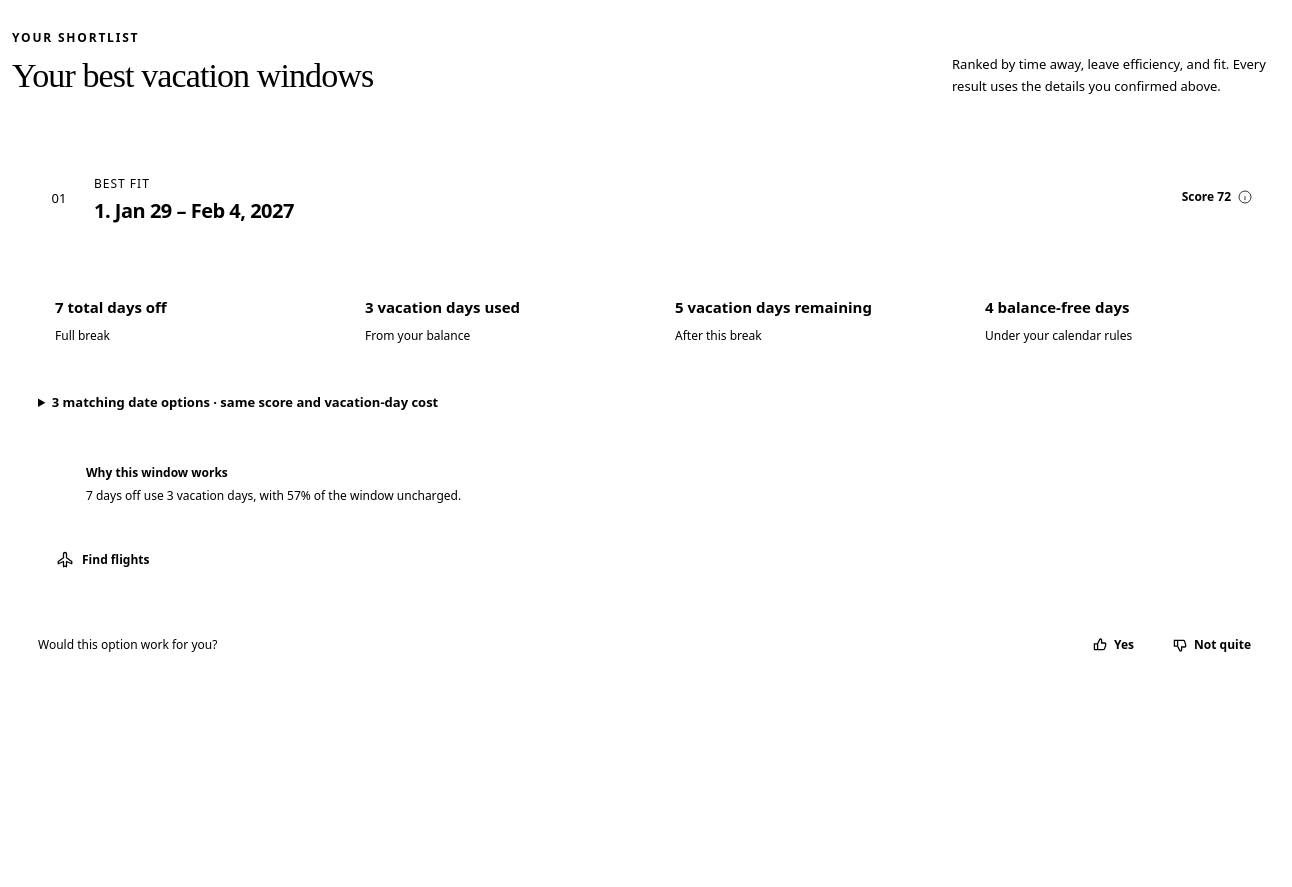
Test: reveals equivalent dates and the weighted score without changing feedback rank
Step 1. Click the heading "3 matching date options · same score and vacation-day cost" → (245, 402), box [52,393,438,411]
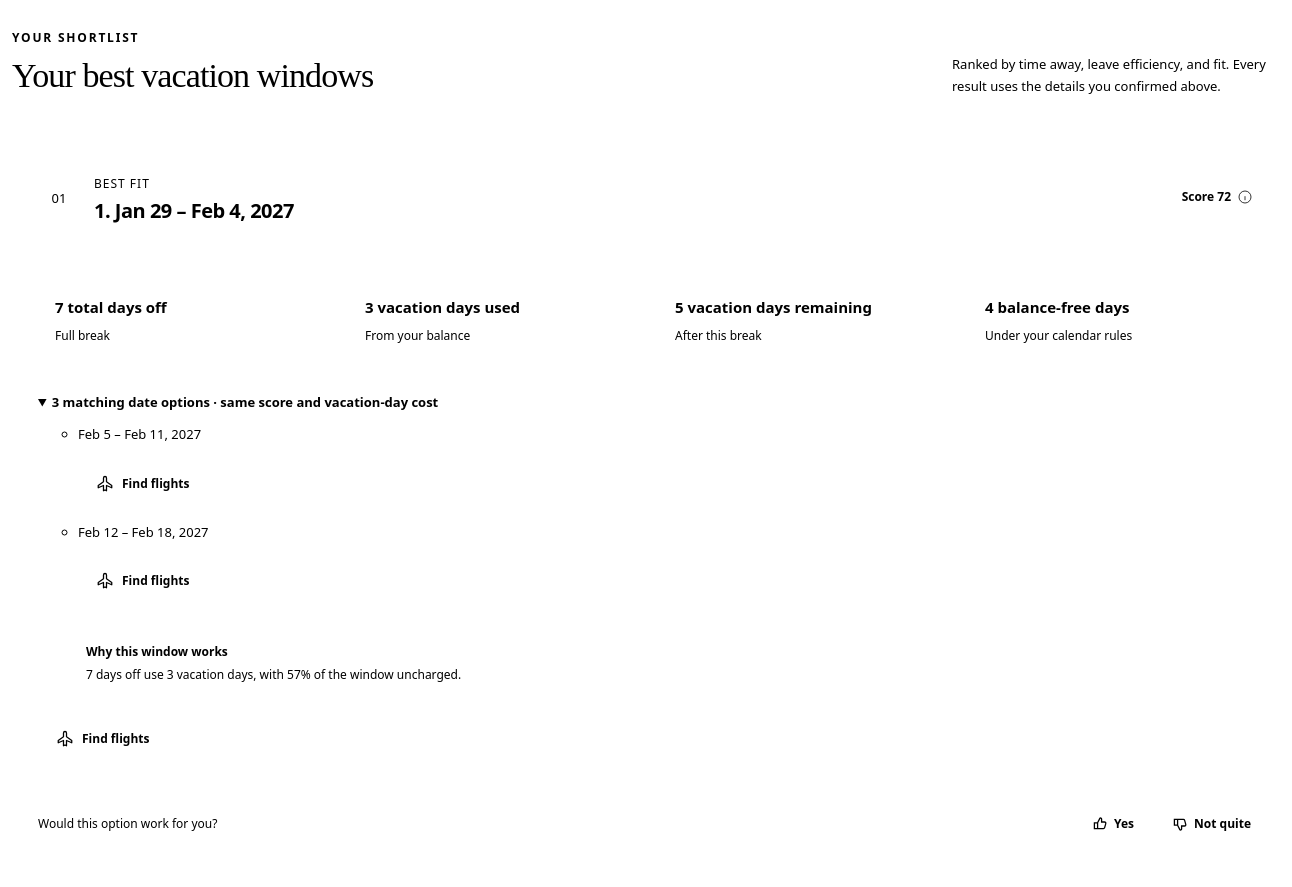
Check: the list item "Feb 5 – Feb 11, 2027" is shown, box [78,425,201,443]
Check: the list item "Feb 12 – Feb 18, 2027" is shown, box [78,522,208,540]
Step 2. Click the heading "Score 72" → (1217, 196), box [1182,188,1253,204]
(page scrolled)
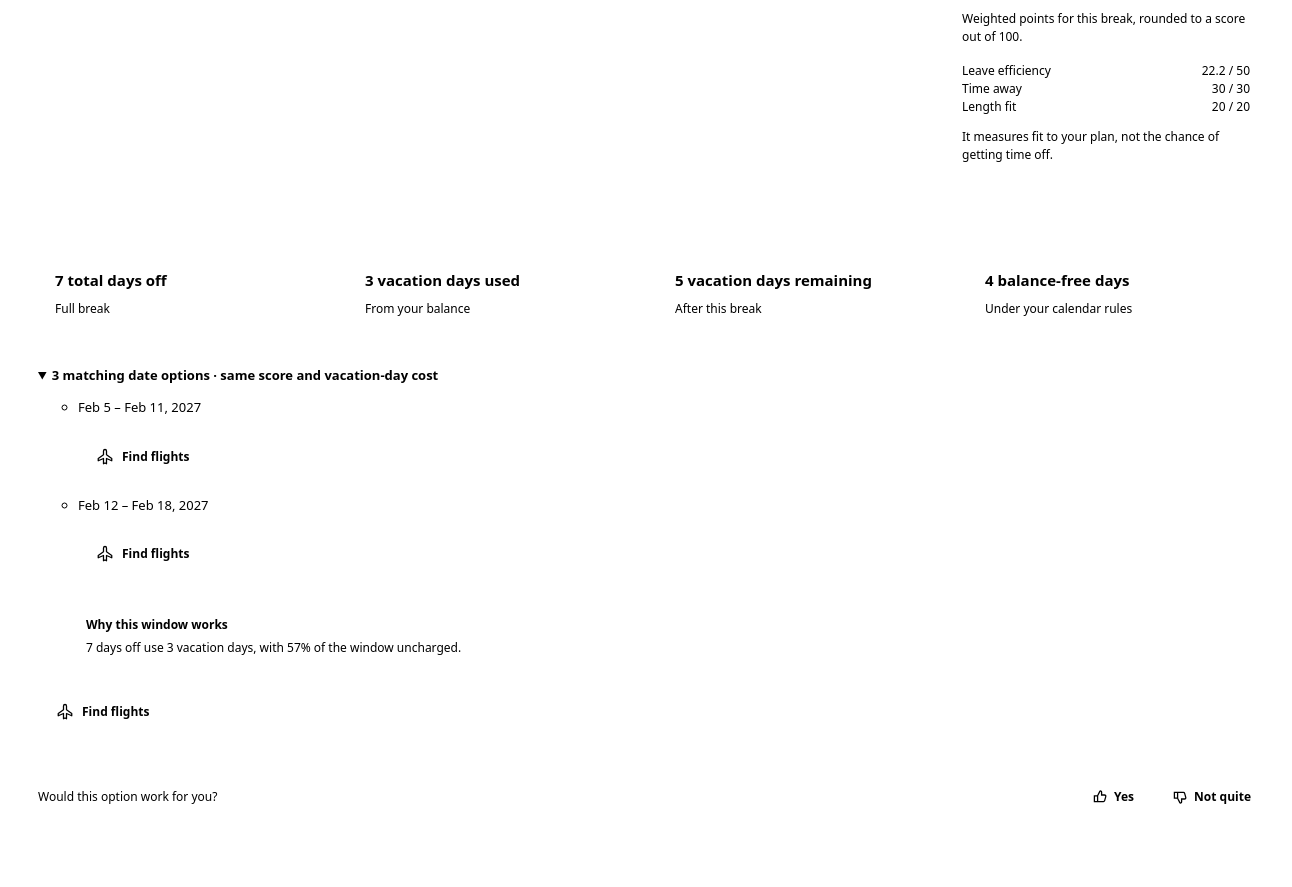
Check: the text "22.2 / 50" is shown, box [1202,62,1250,80]
Step 3. Click the button with aria-label "Thumbs up recommendation 1" → (1113, 797), box [1077,775,1149,819]
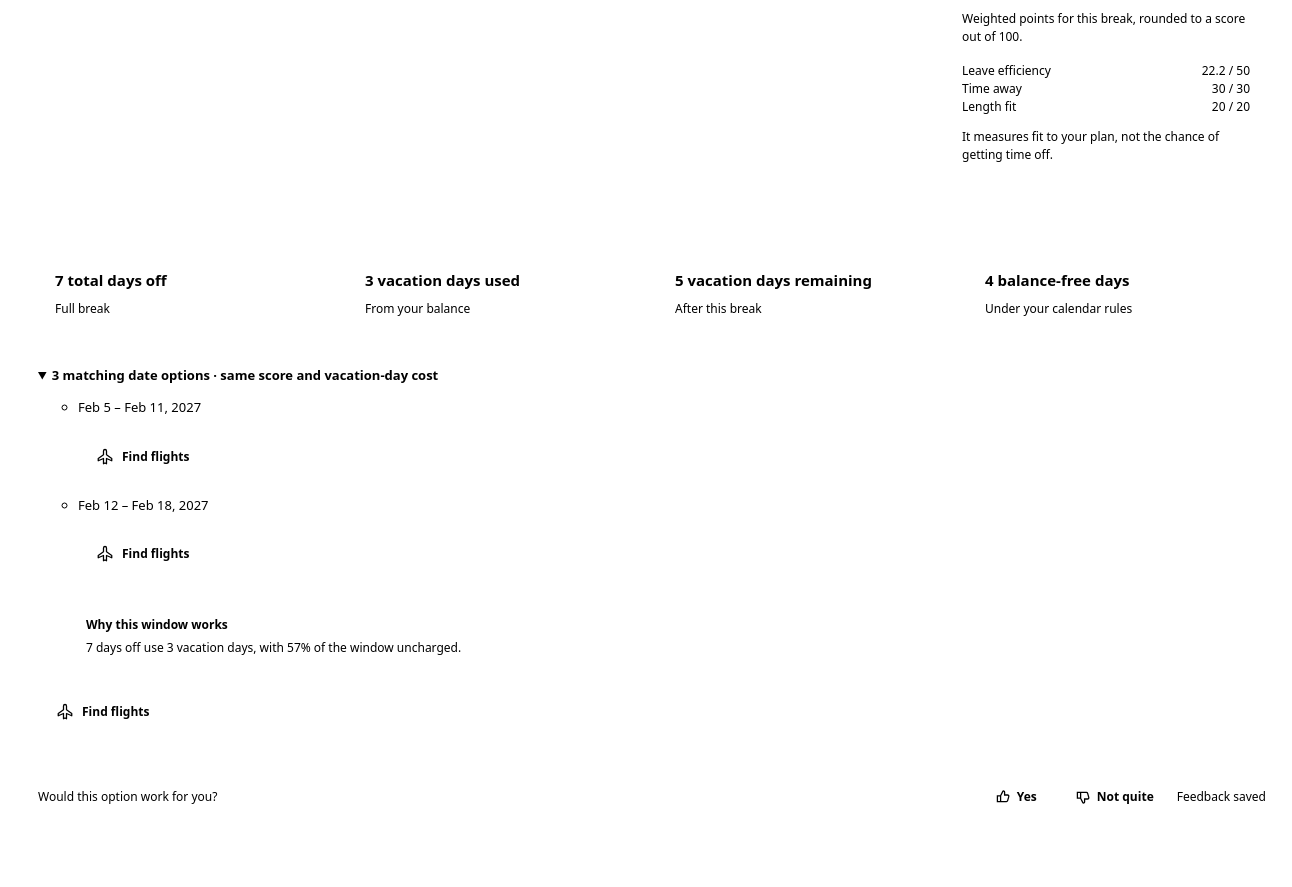
Check: the text "Feedback saved" is shown, box [1177,788,1266,806]
